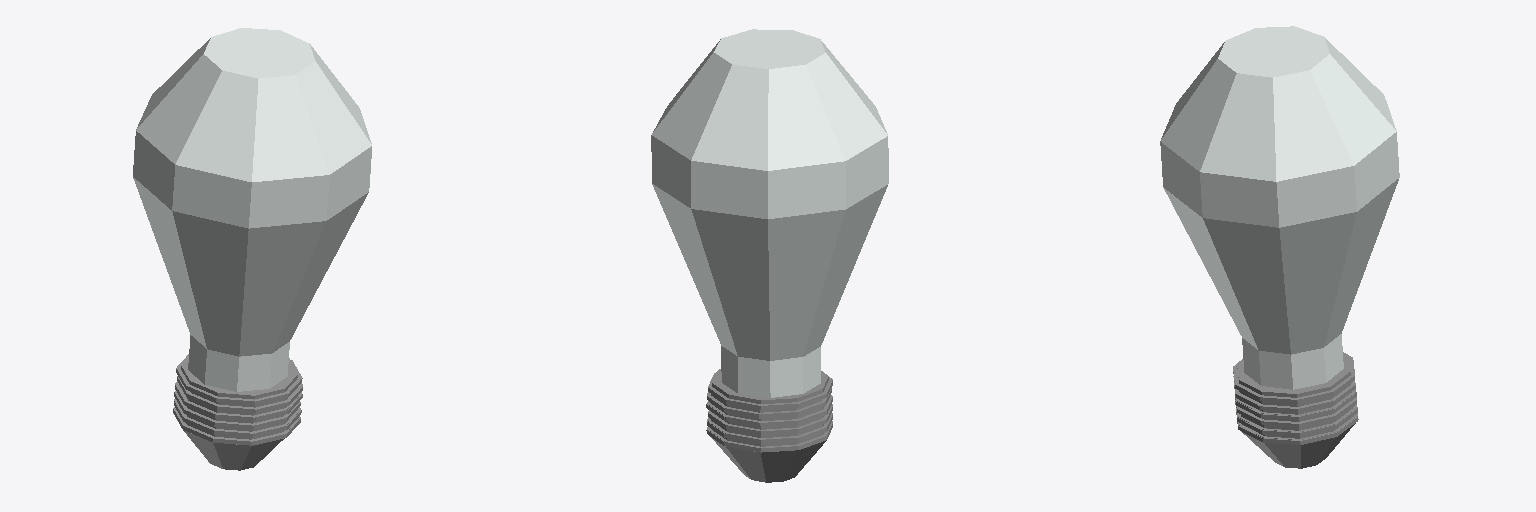
File: bulb.obj
3 renders of one model, left to right at view 1: azimuth 30°, elevation 25°; view 2: azimuth 150°, elevation 25°; view 3: azimuth 270°, elevation 25°, orthographic.
Parts seen in each view (by area): view 1: group[number redacted]; view 2: group[number redacted]; view 3: group[number redacted].
Boxes of the visible parts, box(x1,y1,x2,y2) form: group[number redacted]: box(133, 28, 371, 470); group[number redacted]: box(651, 29, 888, 482); group[number redacted]: box(1160, 26, 1399, 468).
Bounding box in the file's own units: 0.0961 × 0.187 × 0.0975.